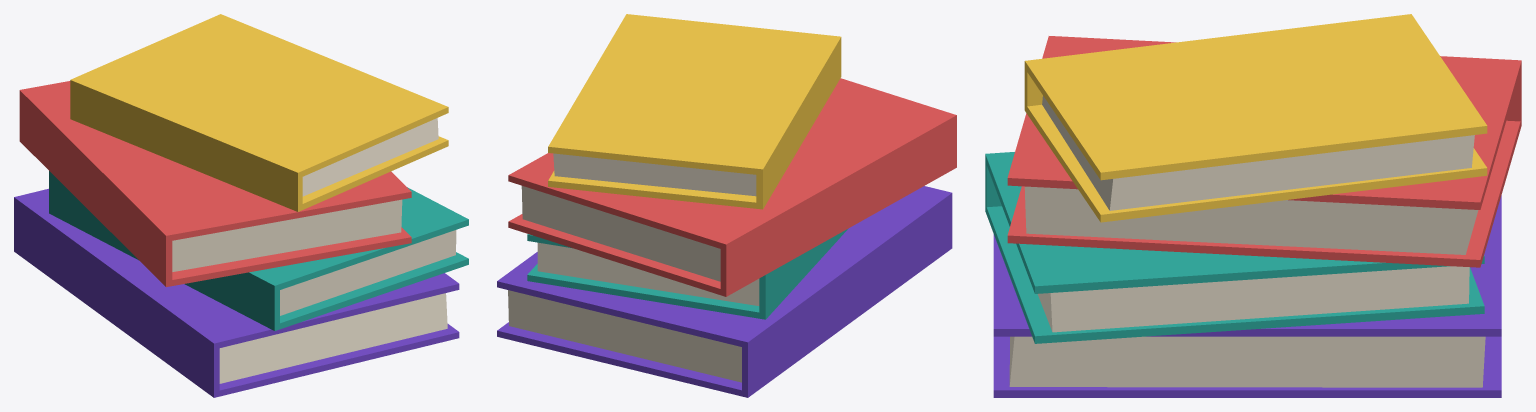
File: books.fbx
3 views of the same model, side by side, from view 1: azimuth 30°, elevation 25°; view 2: azimuth 150°, elevation 25°; view 3: azimuth 270°, elevation 25° (orthographic). The views are drawn at different scales.
Parts seen in each view (by area): view 1: books; view 2: books; view 3: books.
Boxes of the visible parts, x1,y1,x2,y2 form: books: [14, 14, 468, 397]; books: [497, 14, 956, 397]; books: [985, 14, 1521, 397].
Bounding box in the file's own units: 0.2098 × 0.1275 × 0.2533.
